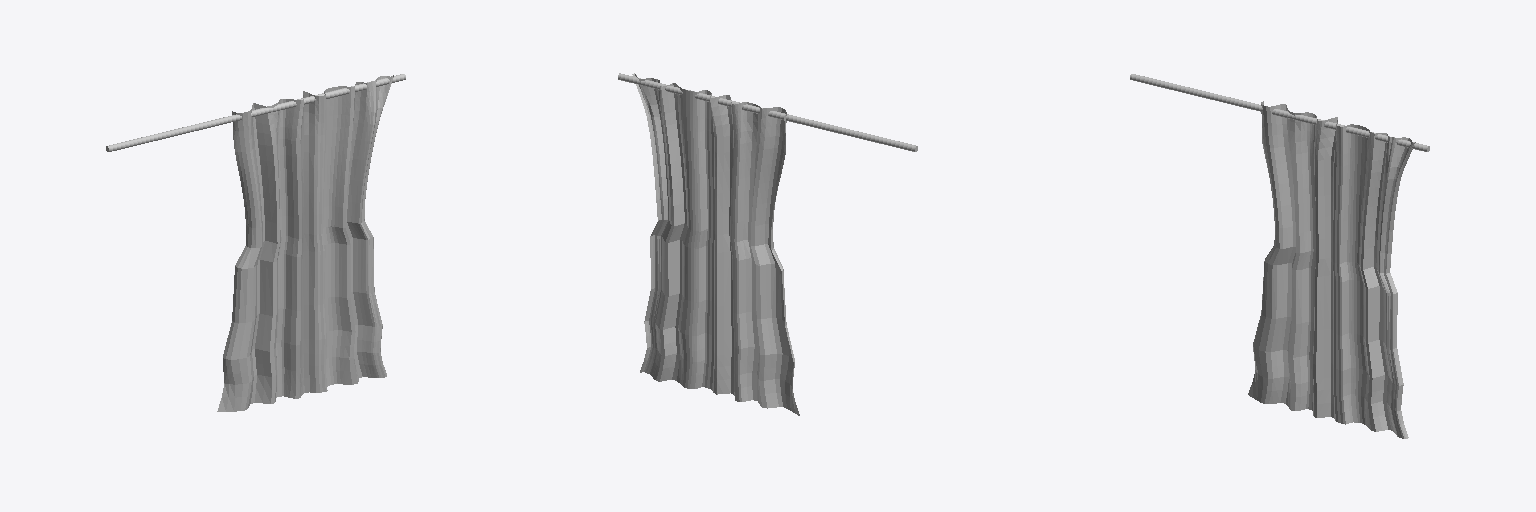
File: corintas.obj
3 renders of one model, left to right at view 1: azimuth 30°, elevation 25°; view 2: azimuth 150°, elevation 25°; view 3: azimuth 330°, elevation 25°, orthographic.
Parts seen in each view (by area): view 1: nurbsToPoly2 group3 nCloth_cortinas_ncache, group3 nCloth_cortinas_ncache pCylinder4; view 2: nurbsToPoly2 group3 nCloth_cortinas_ncache, group3 nCloth_cortinas_ncache pCylinder4; view 3: nurbsToPoly2 group3 nCloth_cortinas_ncache, group3 nCloth_cortinas_ncache pCylinder4.
Boxes of the visible parts, box(x1,y1,x2,y2) form: nurbsToPoly2 group3 nCloth_cortinas_ncache: box(217, 75, 393, 411); group3 nCloth_cortinas_ncache pCylinder4: box(106, 74, 405, 151); nurbsToPoly2 group3 nCloth_cortinas_ncache: box(632, 73, 799, 415); group3 nCloth_cortinas_ncache pCylinder4: box(618, 73, 917, 151); nurbsToPoly2 group3 nCloth_cortinas_ncache: box(1248, 101, 1415, 438); group3 nCloth_cortinas_ncache pCylinder4: box(1130, 74, 1429, 151).
Size of the model in its own units: 4.73 by 4.55 by 0.2953.